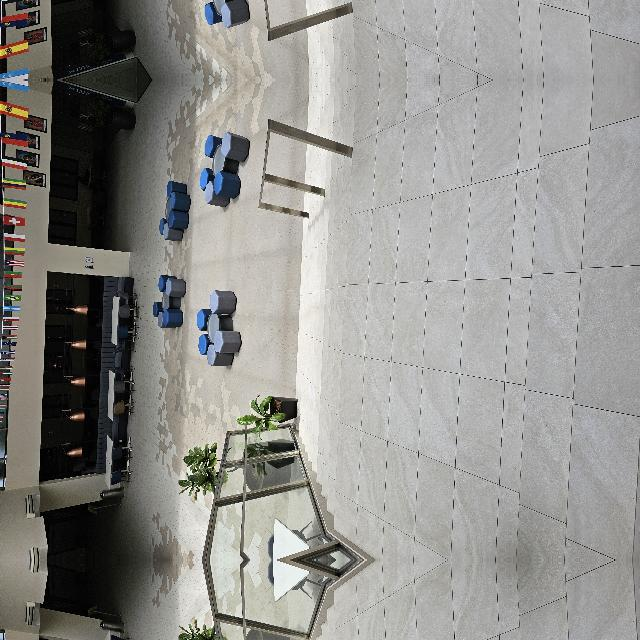obstacle: (342, 335, 444, 433), (188, 269, 274, 323), (354, 274, 431, 332), (310, 232, 384, 270), (224, 228, 294, 268), (125, 327, 171, 381)
